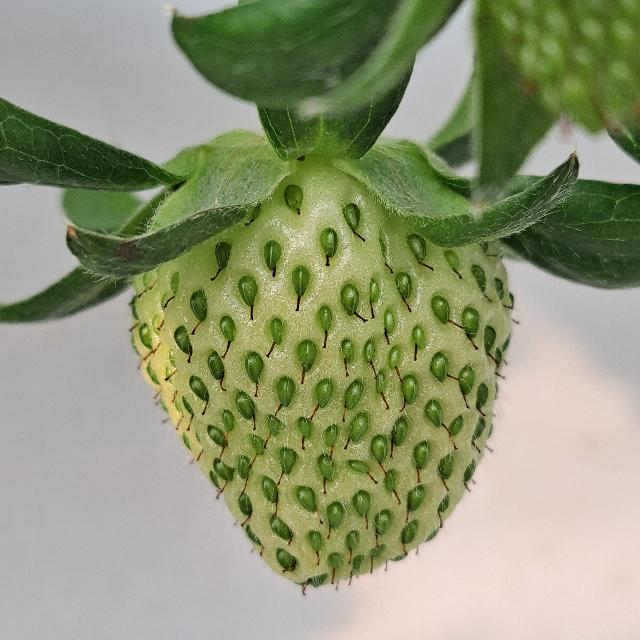Health_25: (131, 167, 514, 588)
